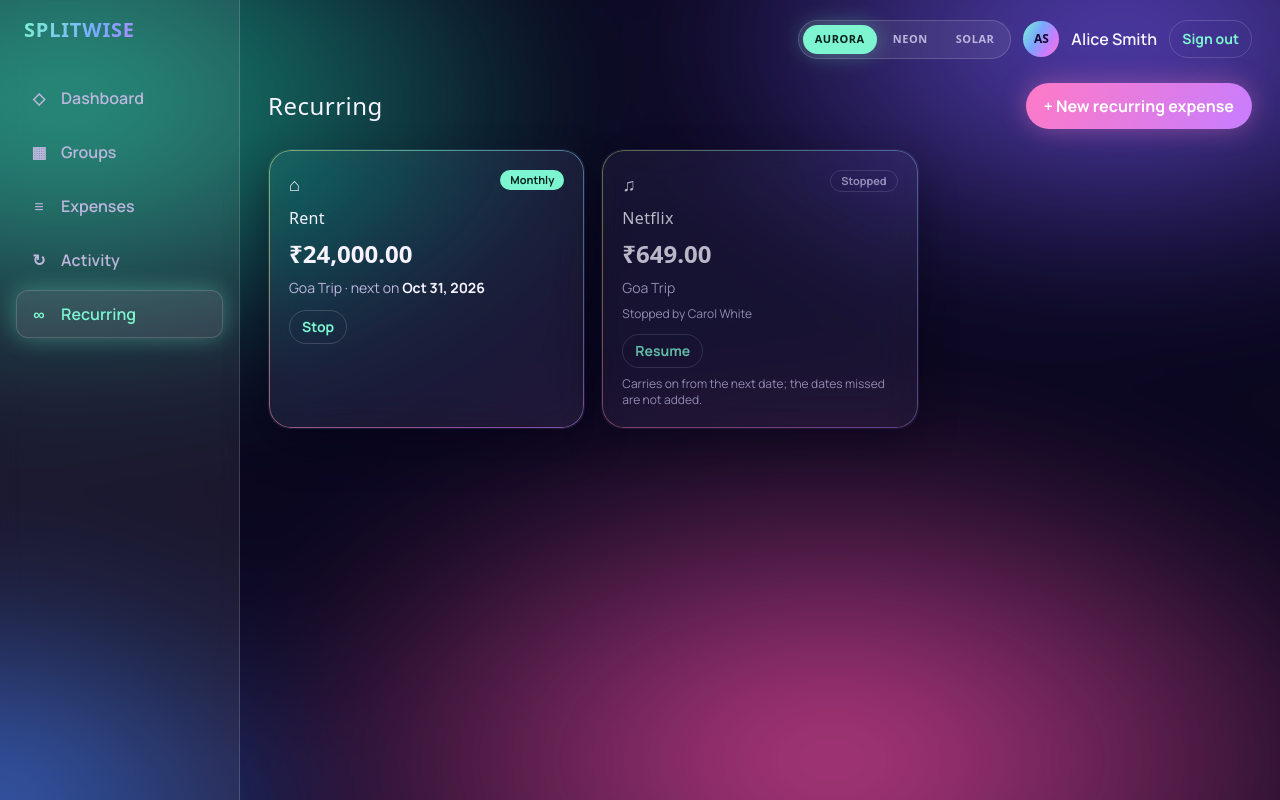
resuming a recurring expense › says why when it cannot resume
Click the button with aria-label "Resume Netflix". click: (663, 350)
box: [622,334,703,368]
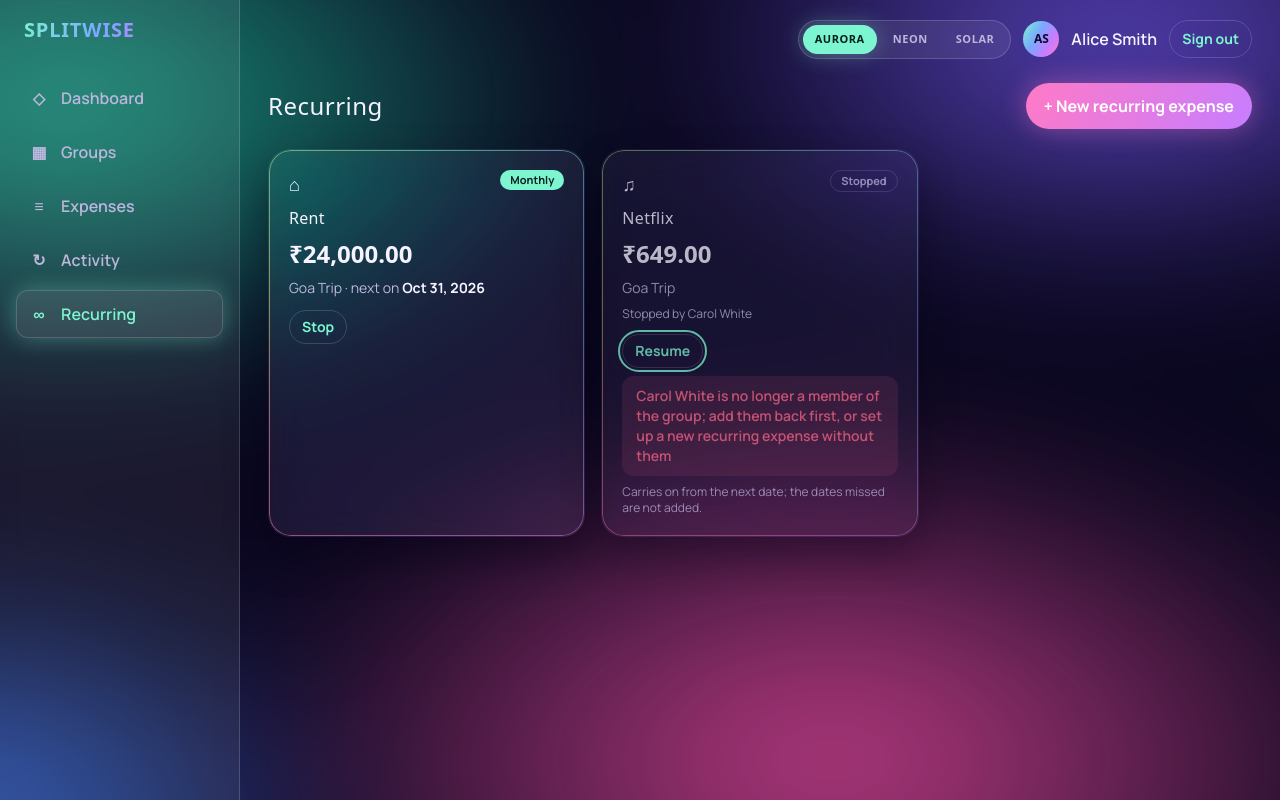
Expected: the message shows "Carol White is no longer a member of the group", [636,386,882,464]
